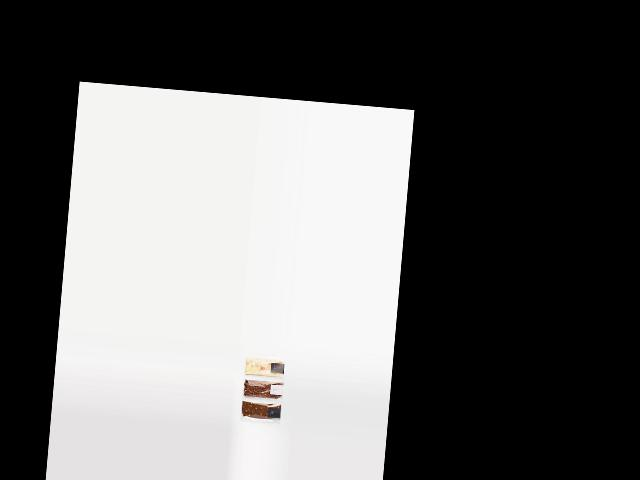chocolate: (236, 399, 280, 426)
